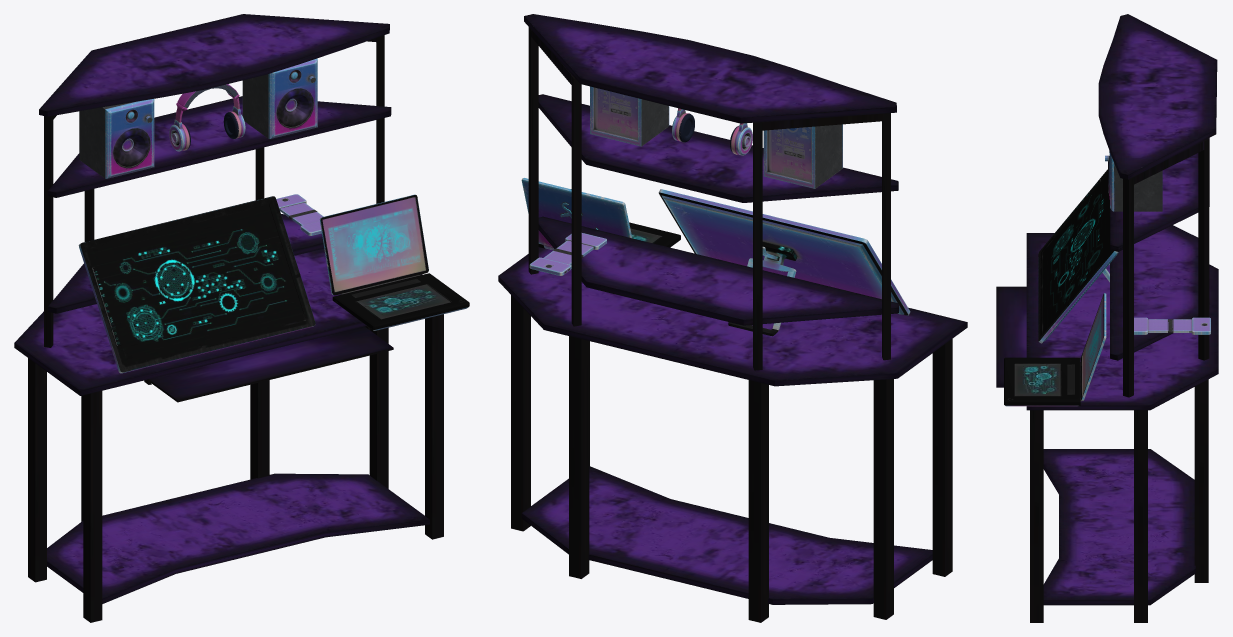
The model's file is purpleSetUp-transformed.glb.
3 views of the same model, side by side, from view 1: azimuth 30°, elevation 25°; view 2: azimuth 150°, elevation 25°; view 3: azimuth 270°, elevation 25° (orthographic). The views are drawn at different scales.
Parts seen in each view (by area): view 1: Desk3, DrawingTablet2, Laptop2, Speaker4, Speaker3, HeadPhones1, PHone1; view 2: Desk3, DrawingTablet2, Speaker4, Laptop2, Speaker3, PHone1, HeadPhones1; view 3: Desk3, DrawingTablet2, Laptop2, Speaker3, PHone1.
Part boxes in pixels (box(x1,y1,x2,y2)): Desk3: box(14, 14, 443, 622); DrawingTablet2: box(78, 196, 315, 373); Laptop2: box(319, 194, 469, 330); Speaker4: box(79, 99, 154, 178); Speaker3: box(242, 58, 317, 138); HeadPhones1: box(169, 84, 245, 151); PHone1: box(276, 194, 323, 235); Desk3: box(498, 14, 967, 622); DrawingTablet2: box(658, 189, 910, 336); Speaker4: box(763, 124, 842, 188); Laptop2: box(521, 178, 680, 250); Speaker3: box(590, 86, 669, 146); PHone1: box(529, 233, 606, 275); HeadPhones1: box(672, 108, 752, 155); Desk3: box(996, 14, 1218, 622); DrawingTablet2: box(1038, 169, 1118, 343); Laptop2: box(1004, 293, 1106, 406); Speaker3: box(1105, 151, 1162, 211); PHone1: box(1134, 317, 1210, 334).
Bounding box in the file's own units: 7.79 × 9.36 × 4.22.
Materials: 6 (6 with a texture image).
